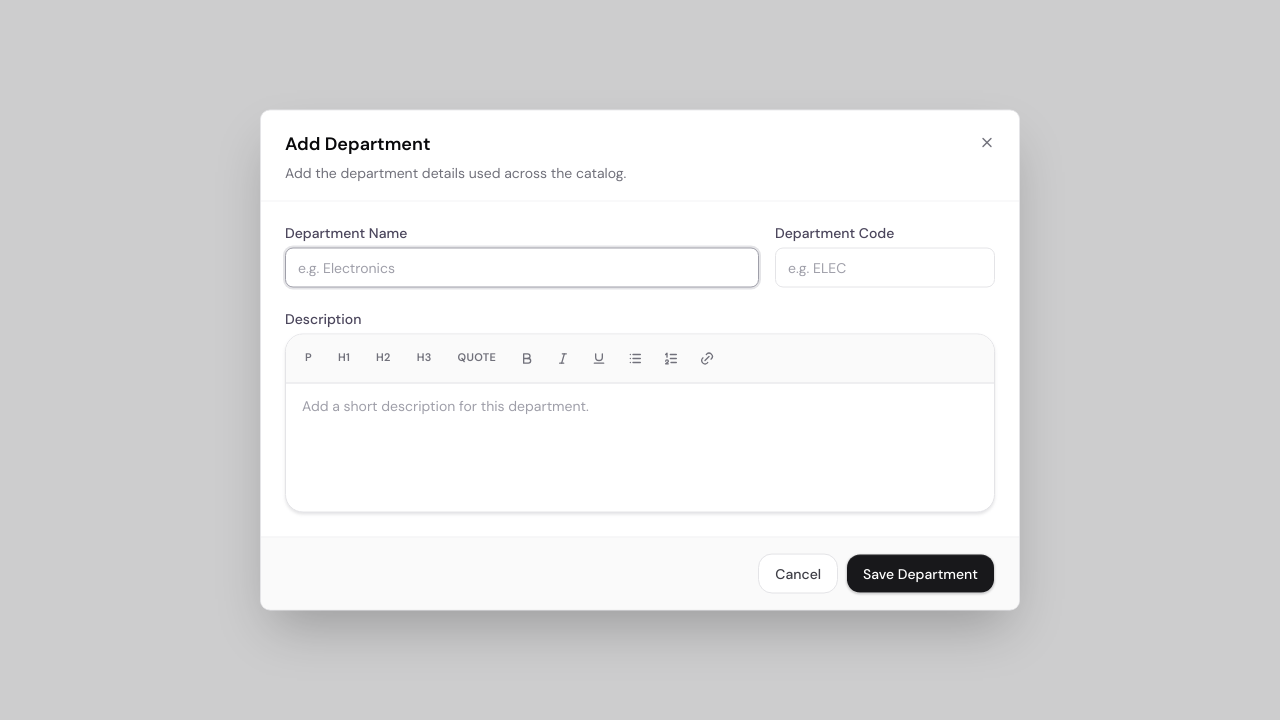
Scenario: DepartmentFormDialog › shows validation error when name is empty
The width and height of the screenshot is (1280, 720).
Click the button "Save Department" at [921, 574], box [846,554,995,594]
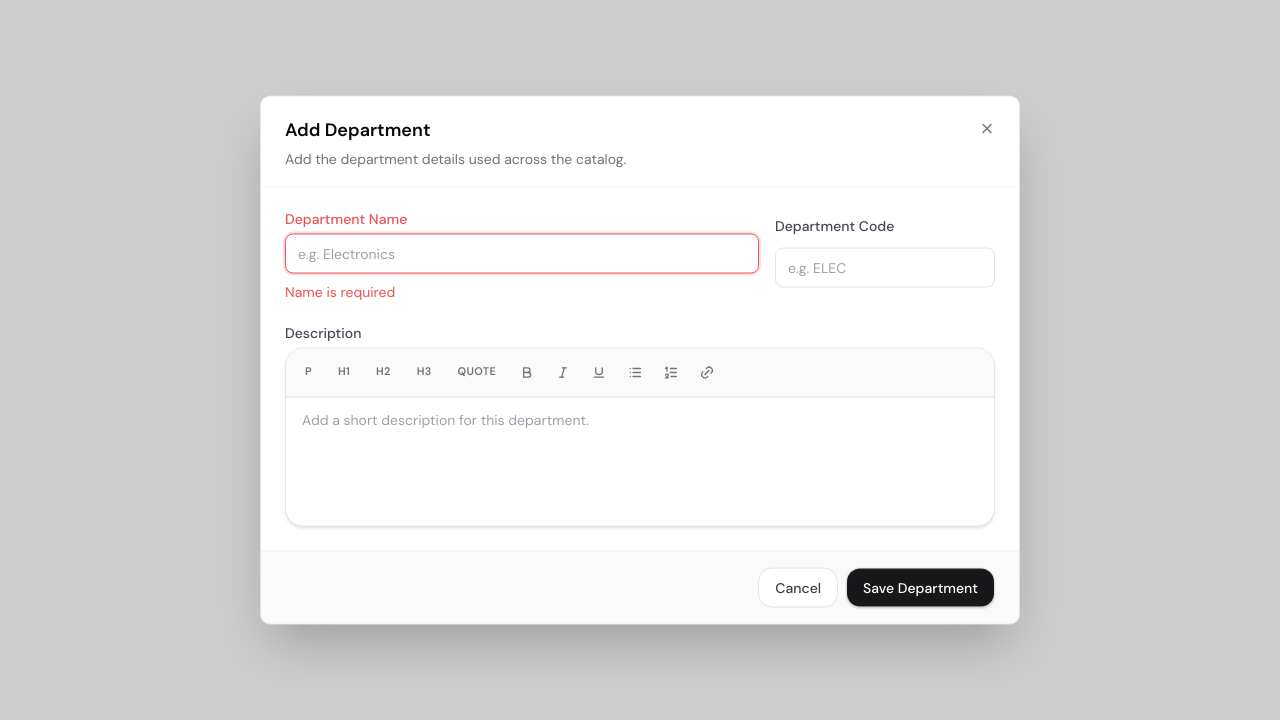
Expected: the text "Name is required" is shown, [285,282,395,300]
